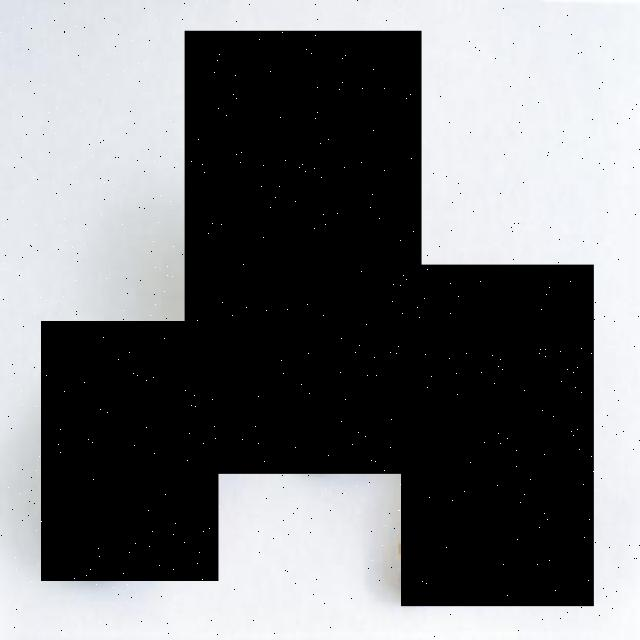Mushroom: (185, 31, 422, 474), (400, 265, 594, 607), (40, 320, 218, 580)
